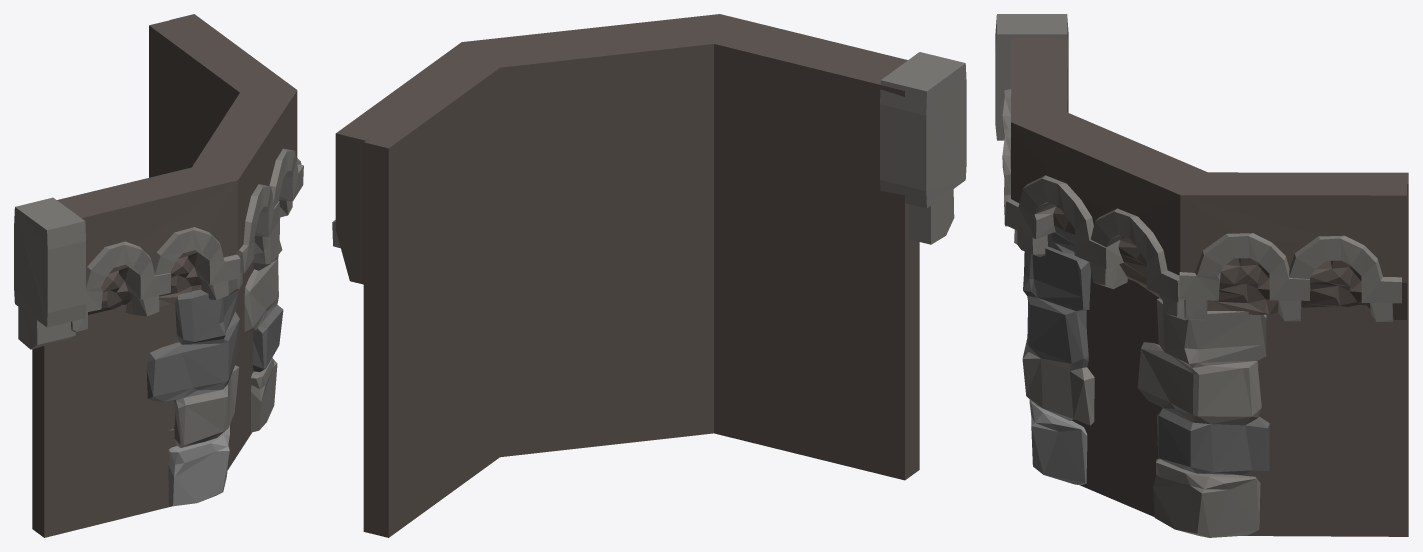
Rendered from MCastle_OctWalls_ArchCarbels.FBX.
3 renders of one model, left to right at view 1: azimuth 30°, elevation 25°; view 2: azimuth 150°, elevation 25°; view 3: azimuth 270°, elevation 25°, orthographic. The views are drawn at different scales.
Parts seen in each view (by area): view 1: MCastle_OctWalls_ArchCarbels_LOD0; view 2: MCastle_OctWalls_ArchCarbels_LOD0; view 3: MCastle_OctWalls_ArchCarbels_LOD0.
Part boxes in pixels (x1,y1,x2,y2): MCastle_OctWalls_ArchCarbels_LOD0: (14,14,303,537); MCastle_OctWalls_ArchCarbels_LOD0: (332,14,966,537); MCastle_OctWalls_ArchCarbels_LOD0: (995,14,1408,537).
Size of what is drawn, in the model's own units: 194 by 178 by 186.
